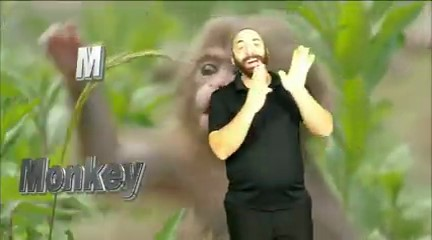M: (242, 44, 325, 111)
